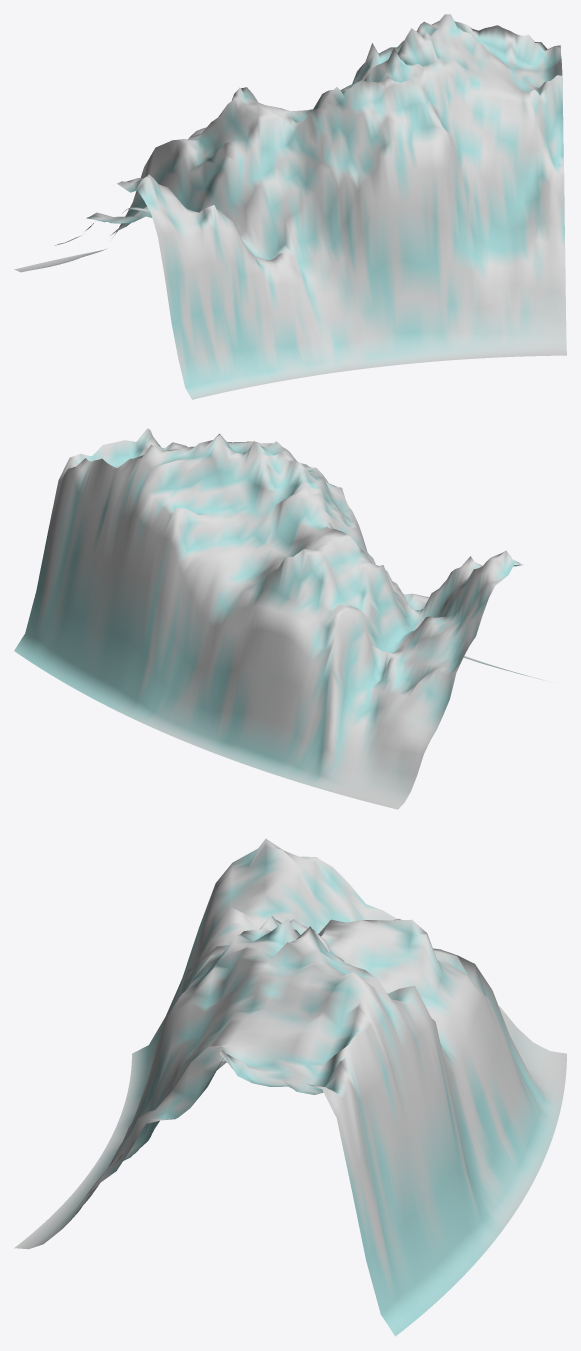
The model's file is far_4.glb.
The picture shows the model from 3 angles, top to bottom: view 1: azimuth 30°, elevation 25°; view 2: azimuth 150°, elevation 25°; view 3: azimuth 270°, elevation 25°; orthographic projection. The views are drawn at different scales.
Parts seen in each view (by area): view 1: Mountain; view 2: Mountain; view 3: Mountain.
Boxes of the visible parts, x1=… form: Mountain: x1=14, y1=14, x2=566, y2=399; Mountain: x1=14, y1=428, x2=546, y2=809; Mountain: x1=14, y1=838, x2=566, y2=1336.
Size of the model in its own units: 1539 by 765 by 1271.
